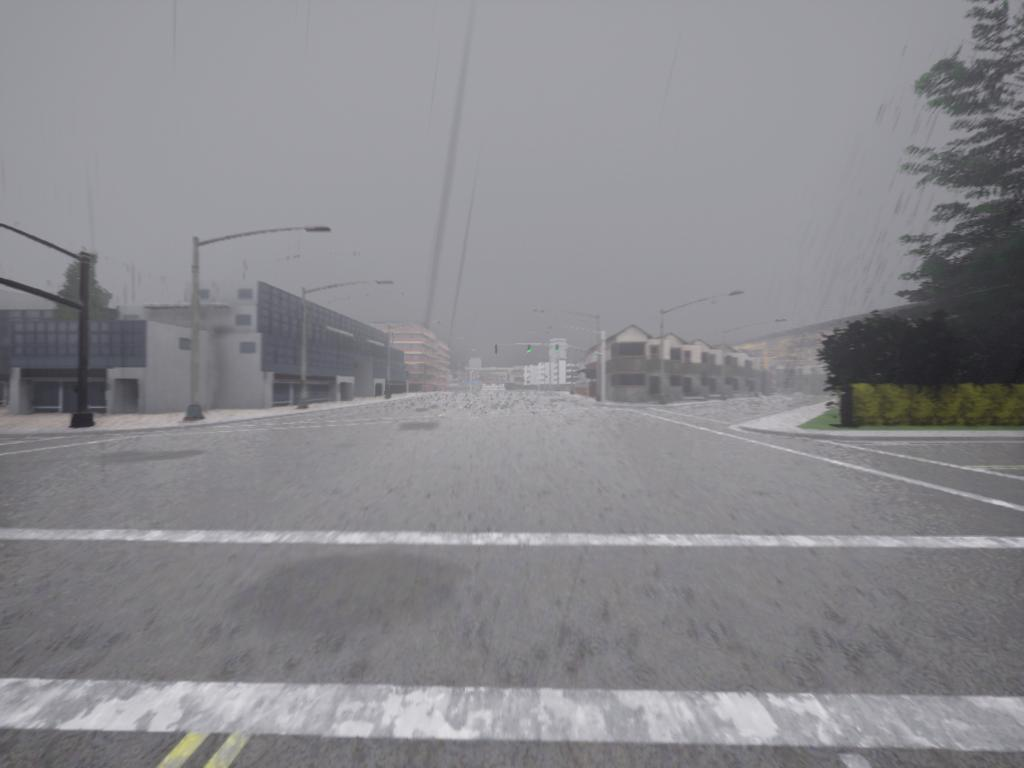traffic_light: (527, 343, 532, 356), (555, 344, 560, 355), (495, 344, 499, 355)
